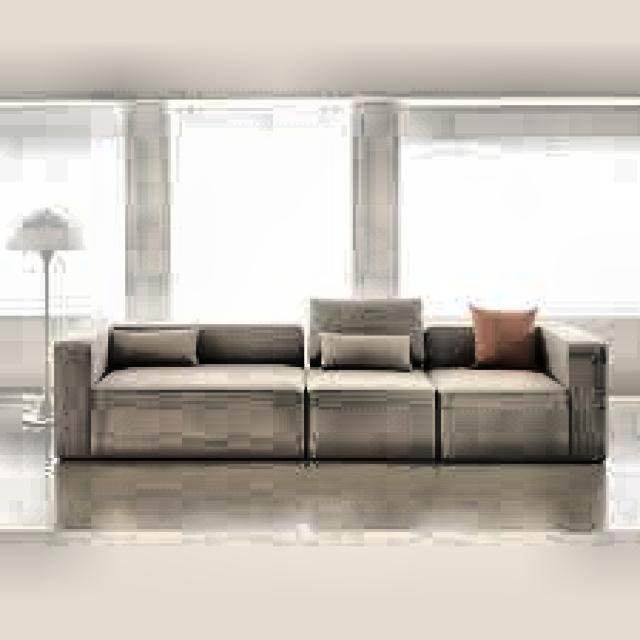sofa: (57, 298, 609, 464)
